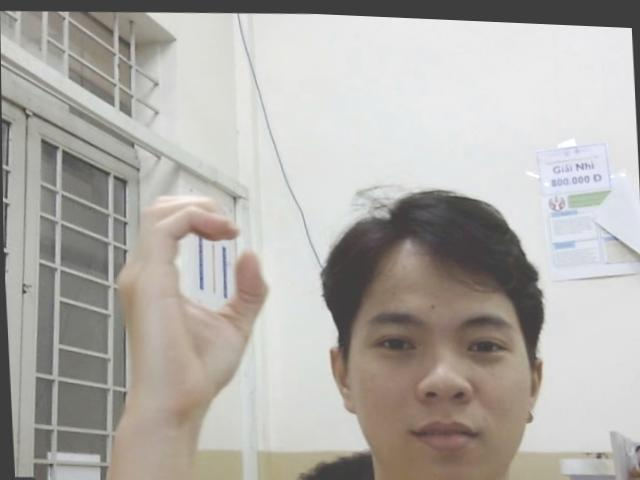C: (105, 186, 275, 408)
